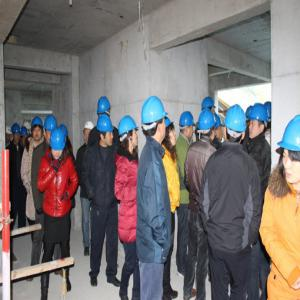blue: (281, 116, 300, 190), (141, 98, 168, 142), (225, 105, 247, 141), (248, 104, 270, 140), (119, 116, 140, 152), (97, 115, 115, 147), (199, 110, 216, 142), (50, 129, 66, 159), (163, 117, 178, 148), (180, 111, 196, 139), (44, 115, 58, 142), (213, 114, 224, 142), (31, 118, 44, 141), (203, 96, 217, 114), (99, 98, 111, 117), (12, 123, 22, 145), (20, 127, 29, 145)
white: (83, 123, 94, 144), (7, 126, 13, 143), (24, 123, 32, 135)
